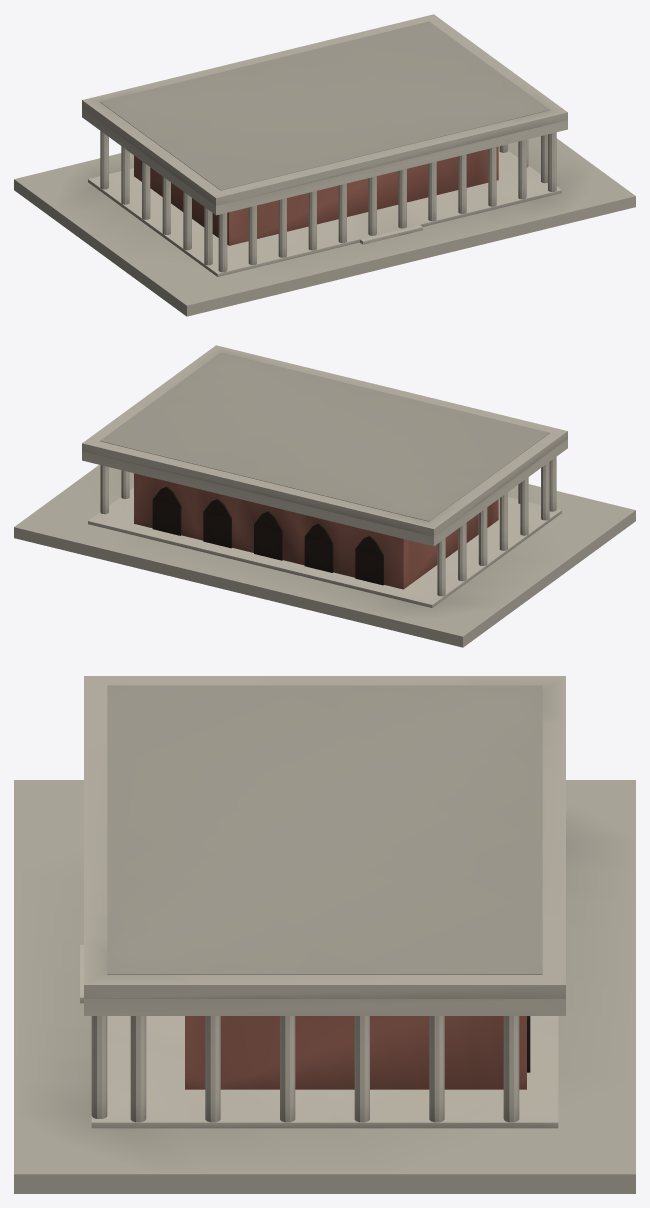
The model's file is residency-1850.glb.
3 views of the same model, one above another, from view 1: azimuth 30°, elevation 25°; view 2: azimuth 150°, elevation 25°; view 3: azimuth 270°, elevation 25° (orthographic). The views are drawn at different scales.
Parts seen in each view (by area): view 1: p2_roof, p1_core, p0_terrace; view 2: p2_roof, p1_core, p0_terrace; view 3: p2_roof, p0_terrace, p1_core.
Part boxes in pixels (left/top/right/bottom): p2_roof: left=82, top=14, right=567, bottom=244; p1_core: left=88, top=131, right=561, bottom=276; p0_terrace: left=14, top=136, right=635, bottom=316; p2_roof: left=82, top=345, right=567, bottom=546; p1_core: left=88, top=457, right=561, bottom=607; p0_terrace: left=14, top=465, right=635, bottom=647; p2_roof: left=80, top=676, right=565, bottom=1015; p0_terrace: left=14, top=780, right=635, bottom=1193; p1_core: left=91, top=1016, right=558, bottom=1128.
Bounding box in the file's own units: 60 × 11.85 × 40.
